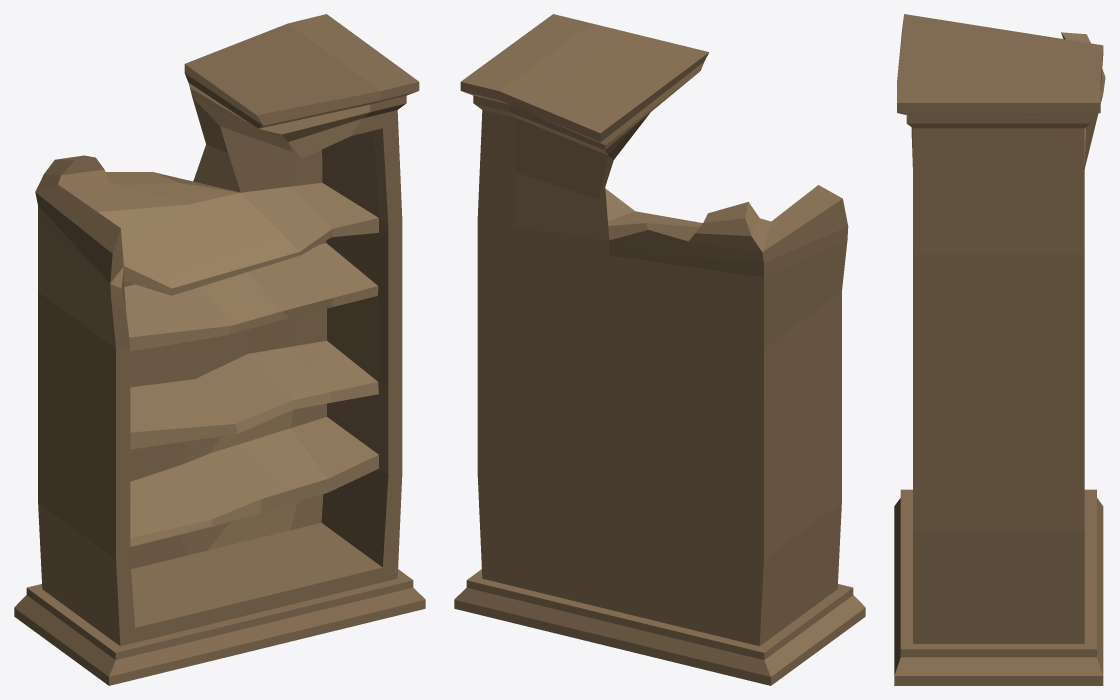
The model's file is shelf_1_C.glb.
The picture shows the model from 3 angles, left to right: view 1: azimuth 30°, elevation 25°; view 2: azimuth 150°, elevation 25°; view 3: azimuth 270°, elevation 25°; orthographic projection. The views are drawn at different scales.
Visible parts, largest first — view 1: shelf_1_C; view 2: shelf_1_C; view 3: shelf_1_C.
Part boxes in pixels (bbox=[...]): shelf_1_C: bbox=[14, 14, 425, 685]; shelf_1_C: bbox=[454, 14, 865, 685]; shelf_1_C: bbox=[894, 14, 1105, 685].
Bounding box in the file's own units: 1.01 × 1.61 × 0.5291.
Materials: 1 (1 with a texture image).
